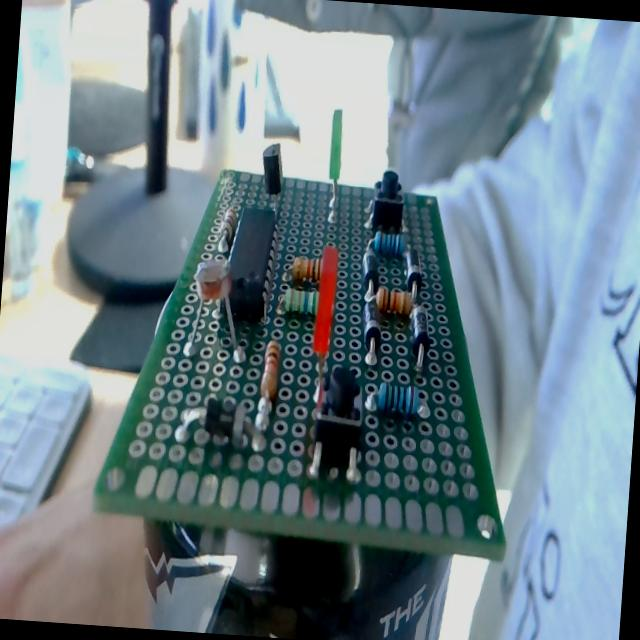IC: (222, 205, 278, 323)
cds: (187, 252, 250, 362)
diode: (176, 392, 269, 456), (407, 302, 434, 366), (359, 294, 384, 359), (402, 248, 424, 296), (360, 248, 380, 292)
led: (306, 243, 339, 420), (324, 110, 344, 223)
resistor: (365, 379, 427, 420), (259, 338, 281, 402), (375, 286, 412, 315), (282, 286, 320, 314), (288, 255, 322, 286), (215, 202, 237, 248), (374, 230, 404, 257)
switch: (308, 362, 367, 482), (368, 170, 405, 236)
transistor: (260, 142, 286, 198)
